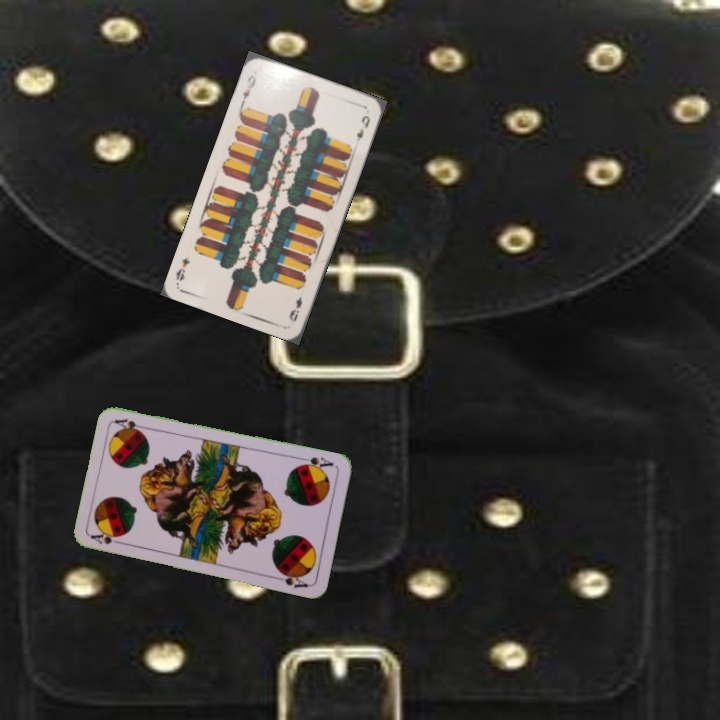E9: (237, 71, 259, 107), (285, 292, 305, 325)
SA: (296, 453, 336, 473), (87, 529, 127, 547)
